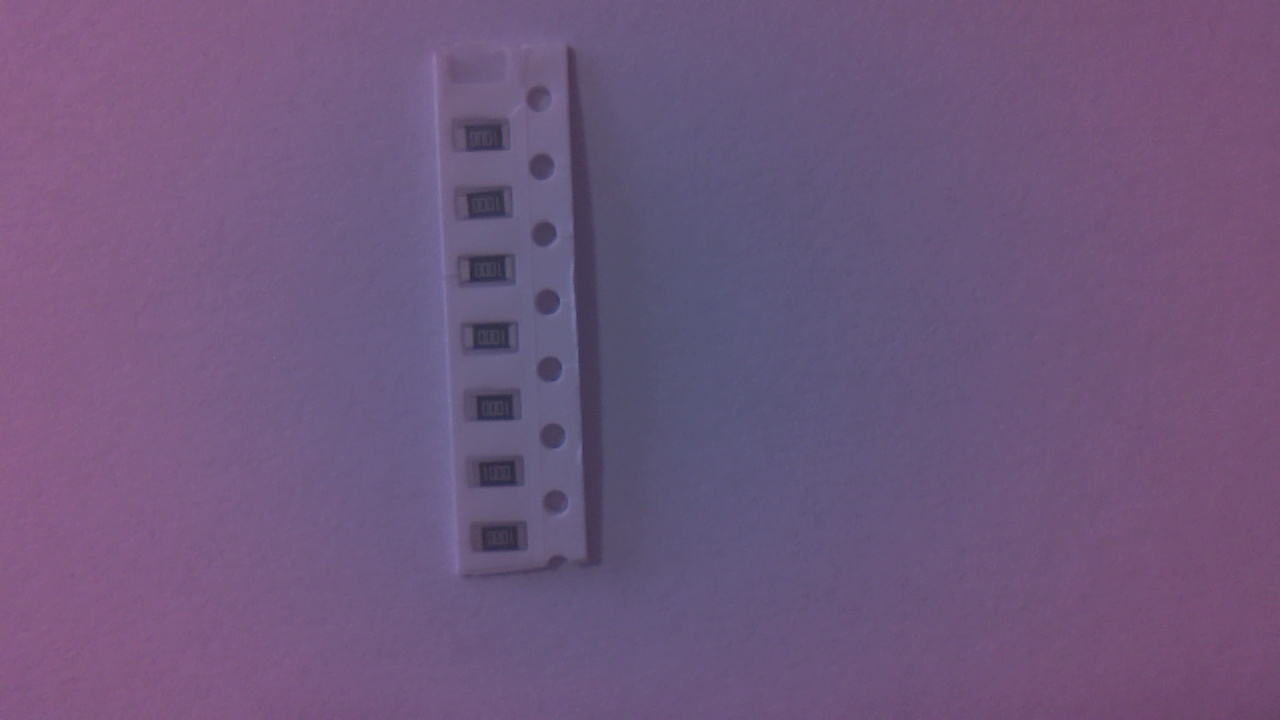Resistor: (453, 126, 515, 159), (459, 194, 520, 227), (476, 524, 535, 558), (473, 458, 530, 493), (465, 259, 524, 290), (472, 395, 527, 427), (467, 328, 525, 356)
